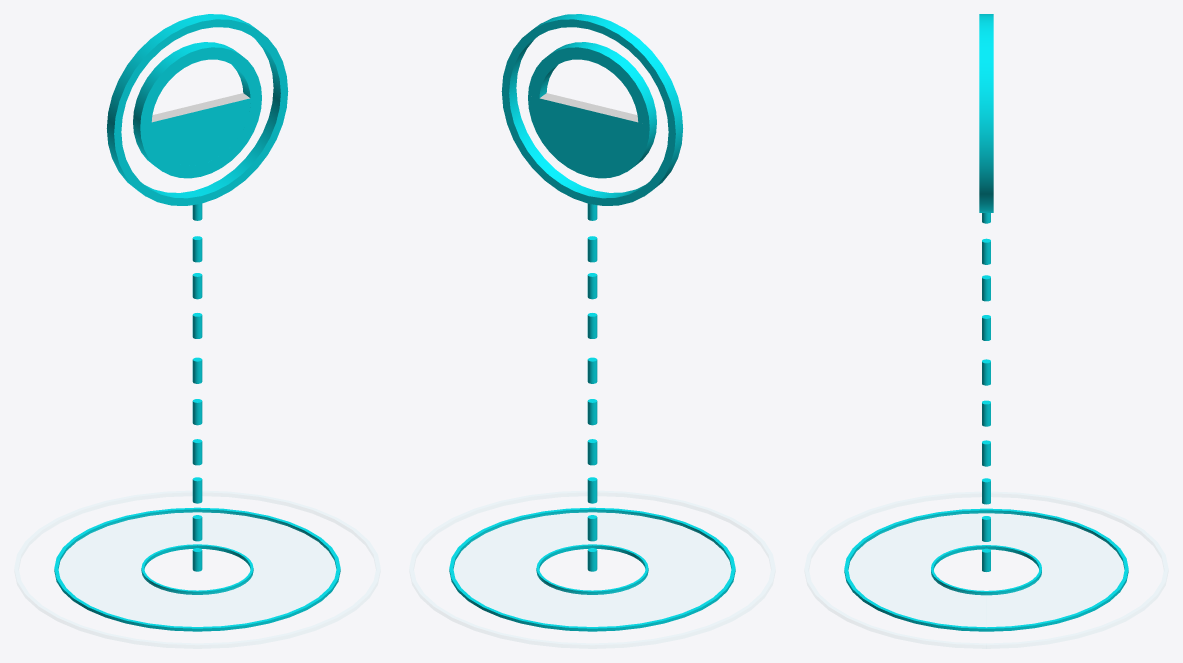
Rendered from shuiku.gltf.
The picture shows the model from 3 angles, left to right: view 1: azimuth 30°, elevation 25°; view 2: azimuth 150°, elevation 25°; view 3: azimuth 270°, elevation 25°; orthographic projection.
Parts seen in each view (by area): view 1: Z_UP; view 2: Z_UP; view 3: Z_UP.
Boxes of the visible parts, left/top/right/bottom form: Z_UP: left=54, top=14, right=340, bottom=631; Z_UP: left=449, top=14, right=735, bottom=631; Z_UP: left=844, top=14, right=1128, bottom=631.
Bounding box in the file's own units: 4.52 × 7.52 × 4.52.
